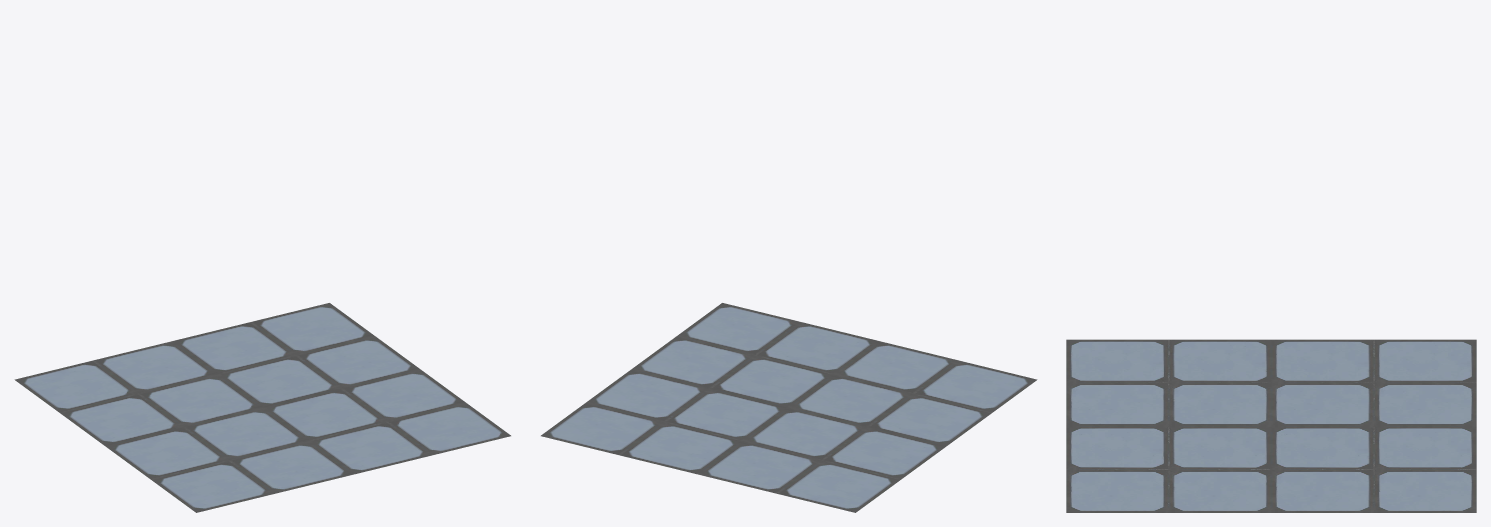
The model's file is Room_MTN_Corner_5.glb.
The picture shows the model from 3 angles, left to right: view 1: azimuth 30°, elevation 25°; view 2: azimuth 150°, elevation 25°; view 3: azimuth 270°, elevation 25°; orthographic projection. The views are drawn at different scales.
Parts seen in each view (by area): view 1: Room_MTN_Corner_5; view 2: Room_MTN_Corner_5; view 3: Room_MTN_Corner_5.
Part boxes in pixels (x1,y1,x2,y2): Room_MTN_Corner_5: (14,303,510,512); Room_MTN_Corner_5: (541,303,1037,512); Room_MTN_Corner_5: (1066,339,1476,512).
Bounding box in the file's own units: 4 × 3.5 × 4.
Materials: 1 (1 with a texture image).
